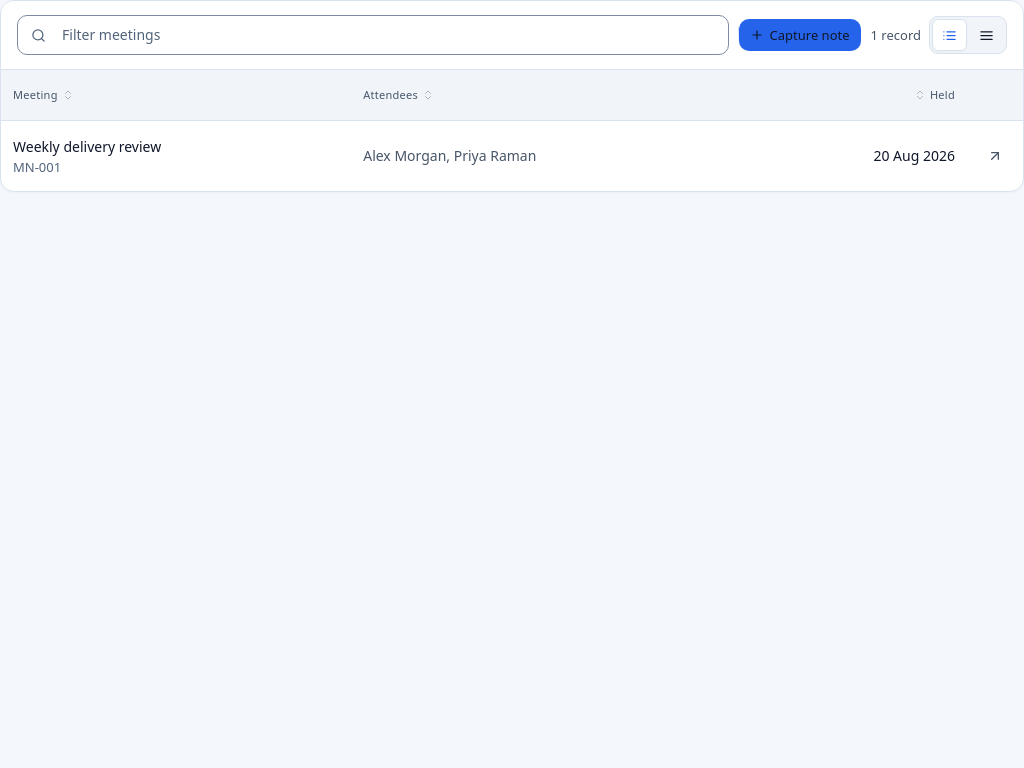
Test: meeting notes › asks the reviewer to confirm the wording before creating a record
What coordinates should you click on to do the following:
click the text "Weekly delivery review"
I would click on:
 (87, 146)
Its box is left=13, top=137, right=161, bottom=156.
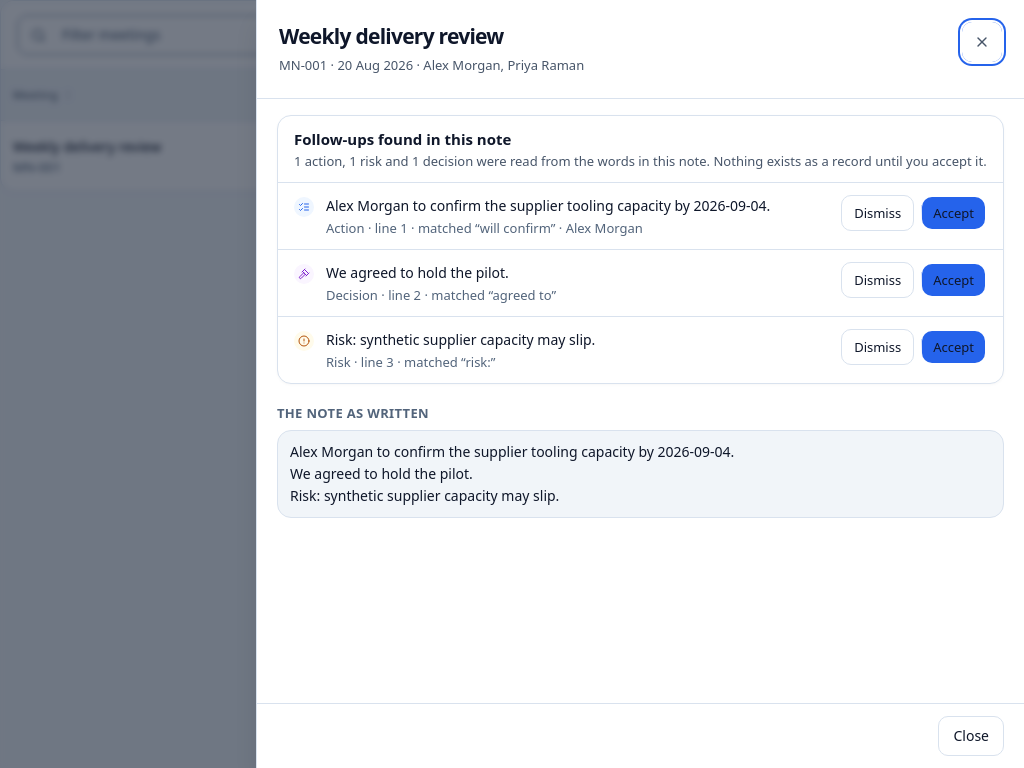
expect the heading "The note as written" is shown: met, box left=277, top=404, right=429, bottom=422
What coordinates should you click on to do the following:
click the 2nd button named "Accept"
I would click on:
 (954, 213)
Its box is left=920, top=195, right=987, bottom=231.
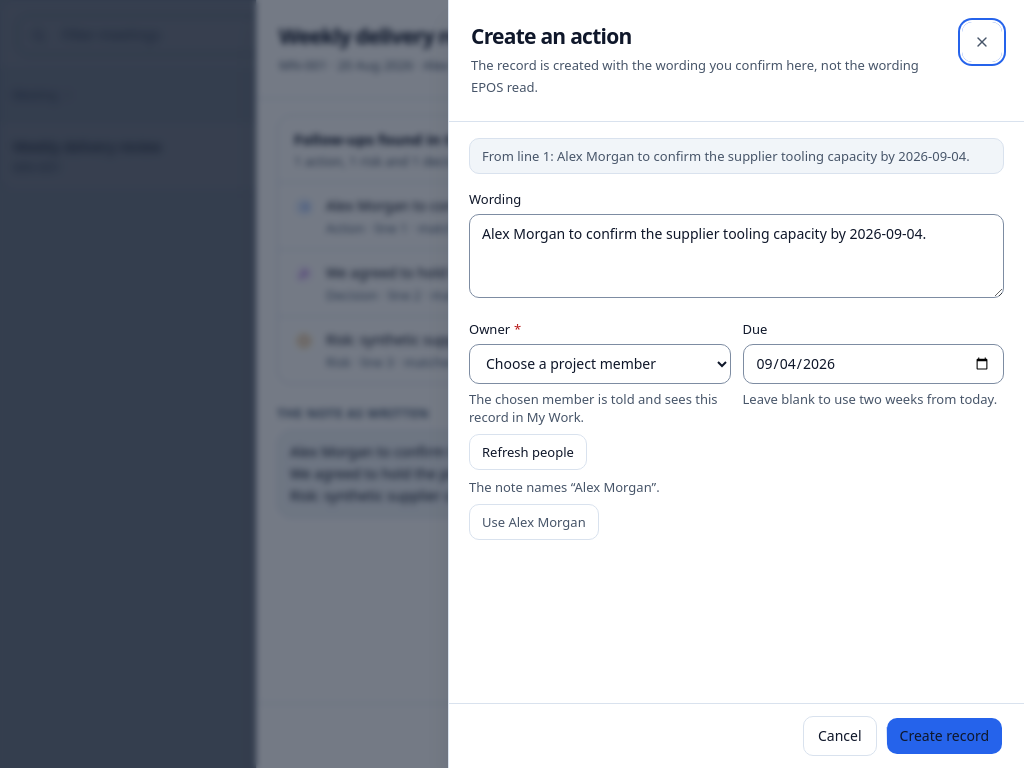
expect the text box labelled "Wording" holds "Alex Morgan to confirm the supplier tooling capacity by 2026-09-04.": met, box left=469, top=214, right=1004, bottom=298
expect the dropdown labelled "Owner" shows "Choose a project member": met, box left=469, top=344, right=730, bottom=384
What coordinates should you click on to do the following:
click the button named "Use Alex Morgan" below "The note names “"
I would click on:
 (534, 522)
Its box is left=469, top=504, right=599, bottom=540.
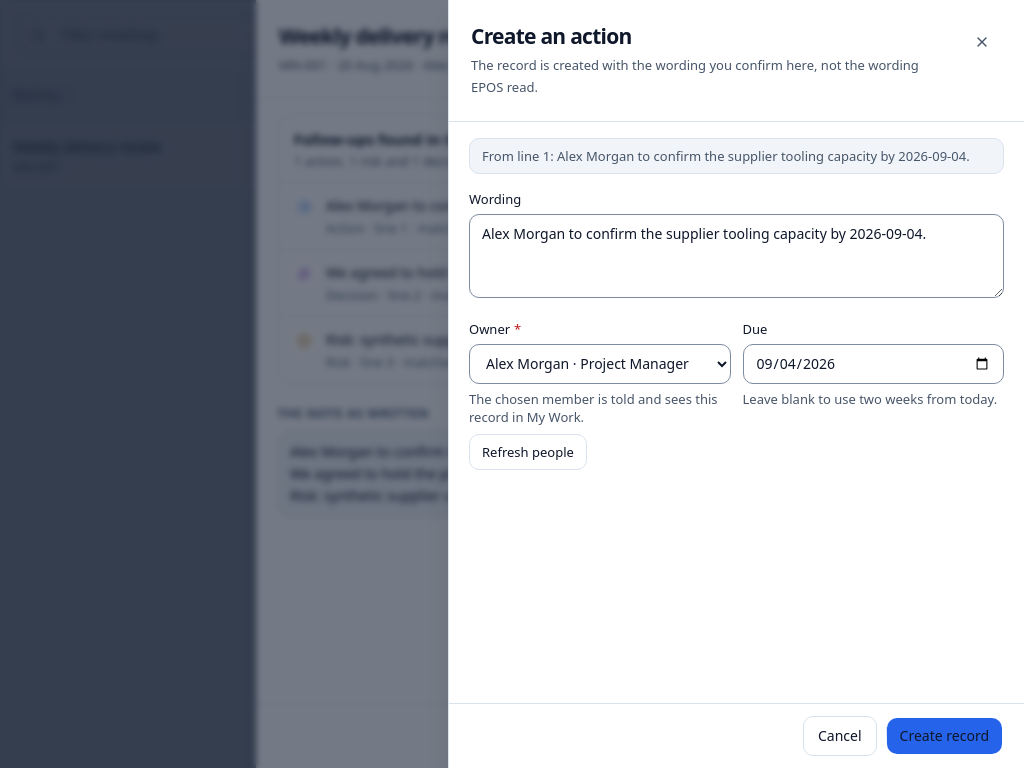
expect the dropdown labelled "Owner" shows "Alex Morgan · Project Manager": met, box left=469, top=344, right=730, bottom=384
